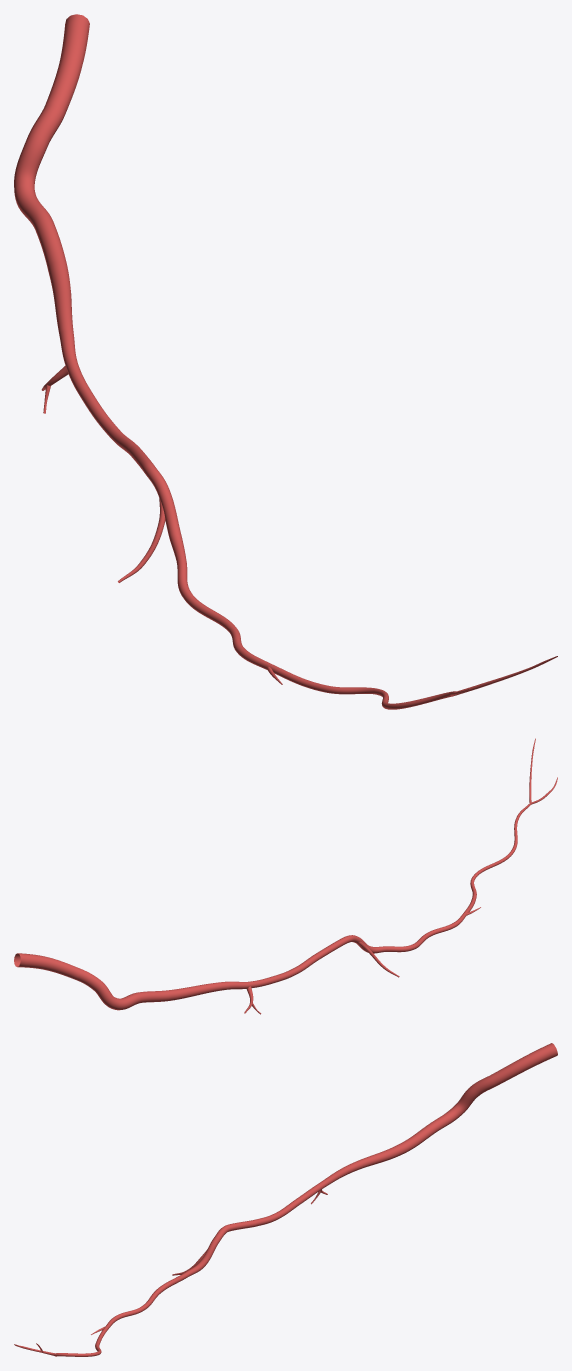
3 renders of one model, top to bottom at view 1: azimuth 30°, elevation 25°; view 2: azimuth 150°, elevation 25°; view 3: azimuth 330°, elevation 25°, orthographic. The views are drawn at different scales.
Parts seen in each view (by area): view 1: 左侧内眦动脉; view 2: 左侧内眦动脉; view 3: 左侧内眦动脉.
Boxes of the visible parts, x1,y1,x2,y2 form: 左侧内眦动脉: (14, 14, 557, 709); 左侧内眦动脉: (14, 738, 557, 1014); 左侧内眦动脉: (14, 1043, 557, 1356).
Bounding box in the file's own units: 0.0448 × 0.0297 × 0.1665.
